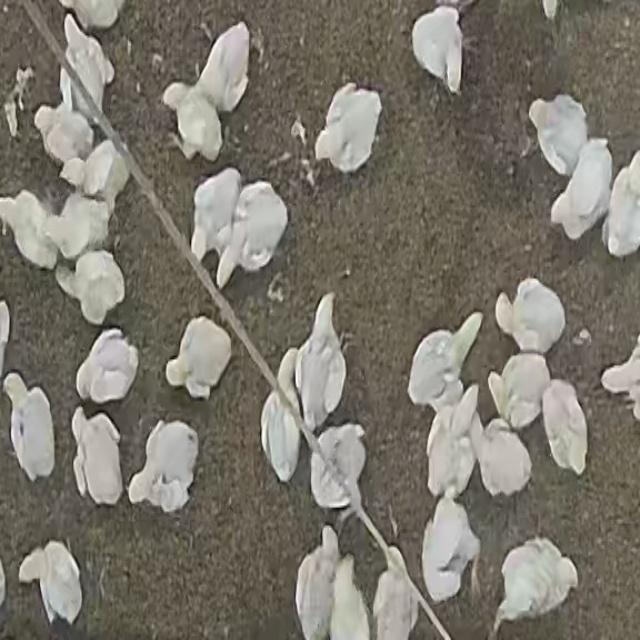chicken: (161, 21, 251, 161), (286, 294, 348, 422), (493, 537, 578, 629), (311, 79, 388, 172), (405, 311, 482, 401), (220, 186, 286, 288), (0, 368, 59, 479), (128, 420, 198, 512), (256, 348, 303, 482), (551, 140, 613, 241), (421, 496, 479, 603), (424, 388, 479, 494), (60, 12, 115, 116), (18, 542, 82, 630), (165, 315, 232, 398), (495, 278, 565, 356), (71, 407, 125, 505), (469, 412, 533, 494), (294, 518, 337, 638), (410, 4, 466, 92), (75, 328, 138, 406), (312, 425, 366, 512), (61, 252, 128, 320), (542, 382, 592, 473), (530, 96, 588, 174), (488, 354, 556, 420), (56, 140, 132, 196), (377, 544, 421, 640), (188, 172, 240, 252), (329, 555, 373, 640), (44, 202, 118, 249)
